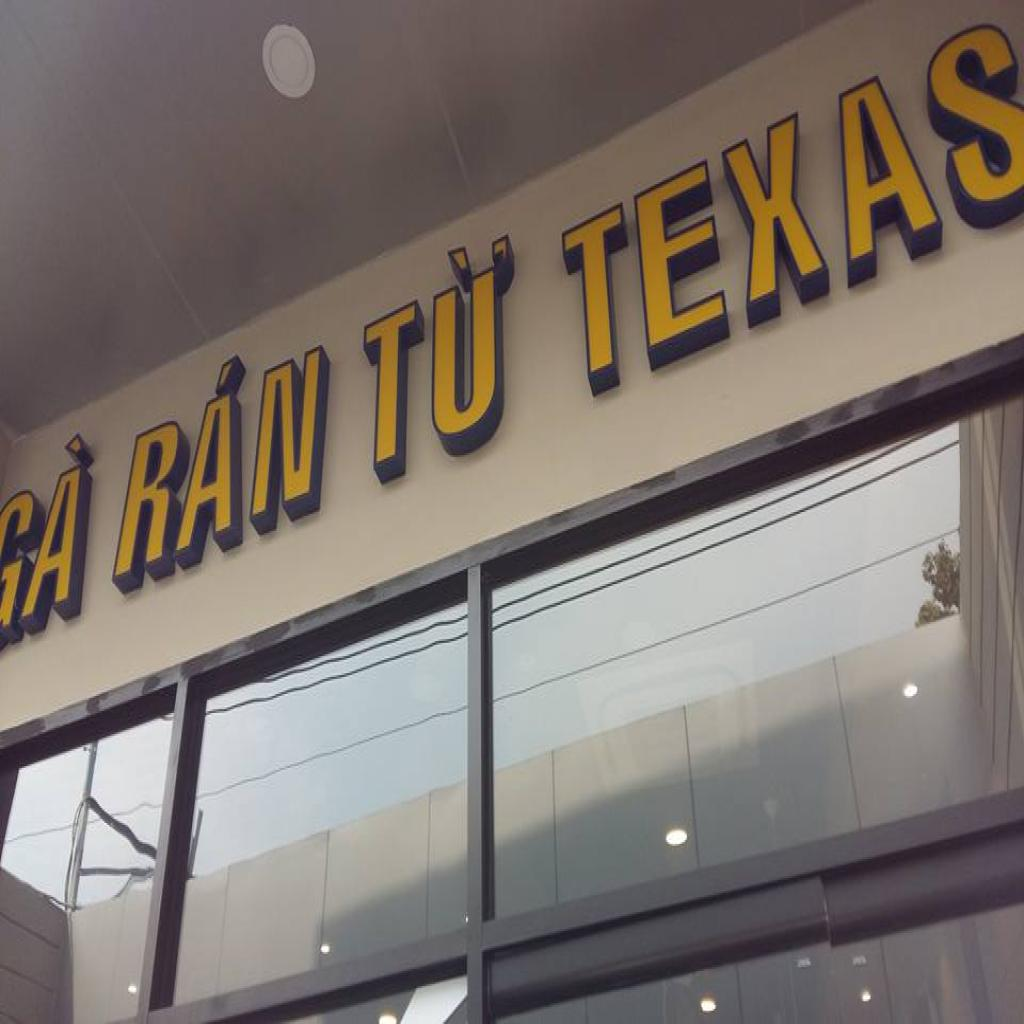text: (108, 303, 330, 588), (356, 212, 518, 484), (15, 428, 88, 630)
